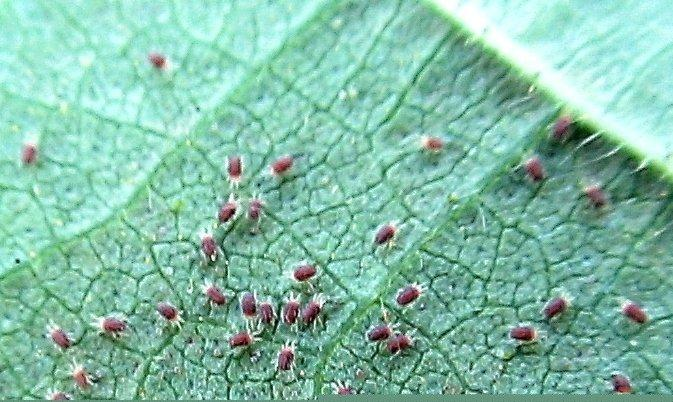Mites: (190, 231, 232, 277), (285, 249, 325, 295), (145, 300, 186, 332), (364, 208, 400, 244), (275, 338, 305, 381), (218, 155, 248, 196), (92, 311, 130, 342), (365, 317, 390, 345), (236, 286, 259, 316), (401, 279, 418, 317)
